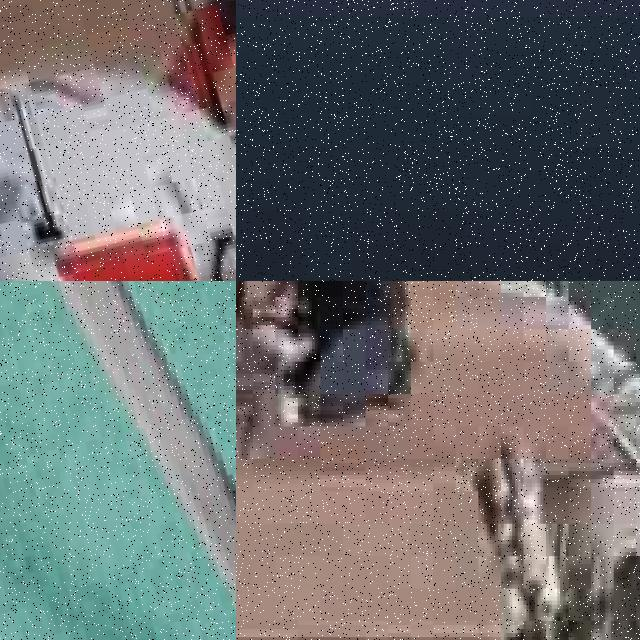drone: (0, 281, 236, 640), (0, 0, 236, 281)
